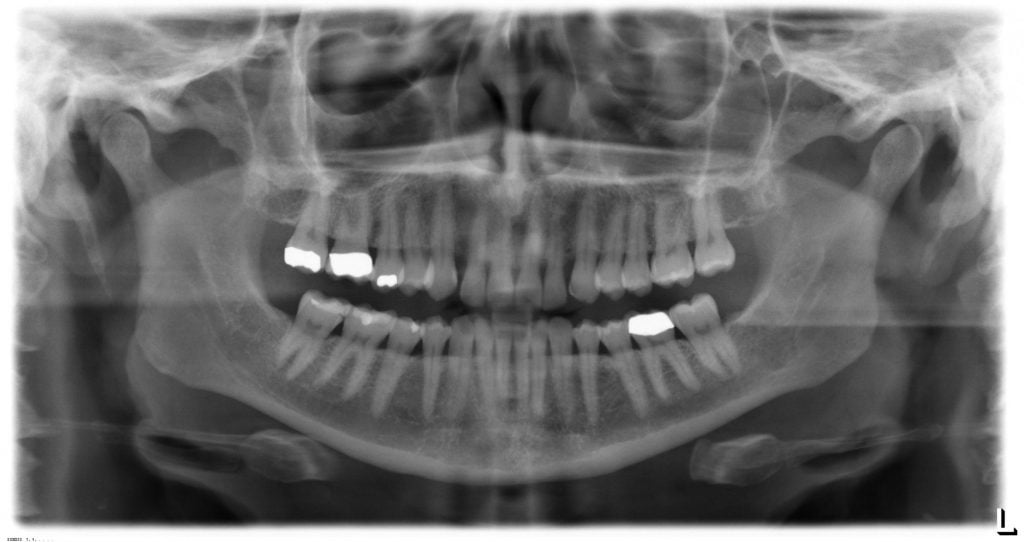canine: (428, 183, 462, 299), (569, 190, 599, 307), (547, 314, 577, 422), (449, 313, 476, 417)
incisor: (487, 189, 518, 314), (515, 189, 546, 313), (541, 191, 569, 313), (461, 189, 488, 313), (492, 313, 517, 417), (527, 316, 550, 419), (474, 315, 495, 421), (513, 314, 529, 414)
molar: (326, 292, 392, 421), (275, 283, 350, 387), (629, 309, 702, 404), (668, 294, 747, 379), (281, 174, 333, 277), (650, 176, 695, 292), (329, 178, 375, 281), (693, 182, 740, 277)
premolar: (375, 307, 424, 423), (599, 314, 652, 420), (400, 180, 433, 298), (373, 175, 405, 292), (573, 313, 605, 428), (420, 314, 450, 426), (624, 184, 653, 298), (599, 185, 626, 301)
